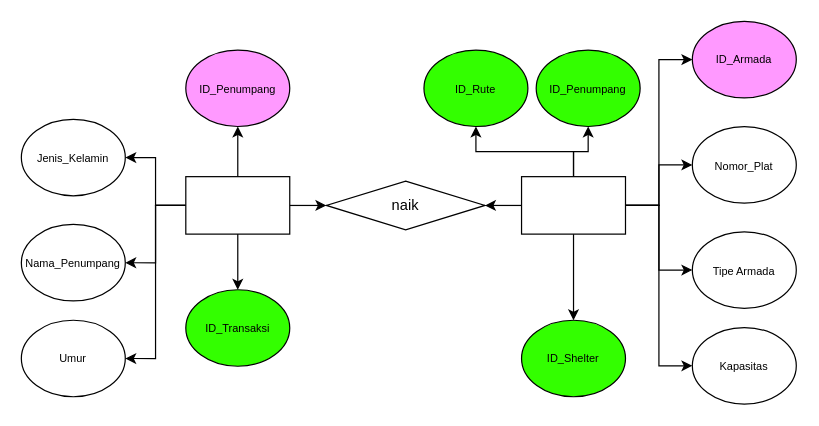
Image size: 819x426. Some labels were removed from this diagram. The shapes that lost their labels are listed below. From the top down, each one's centre as x and y in pixels, then its label:
(237,204): penumpang
(572,204): Armada
